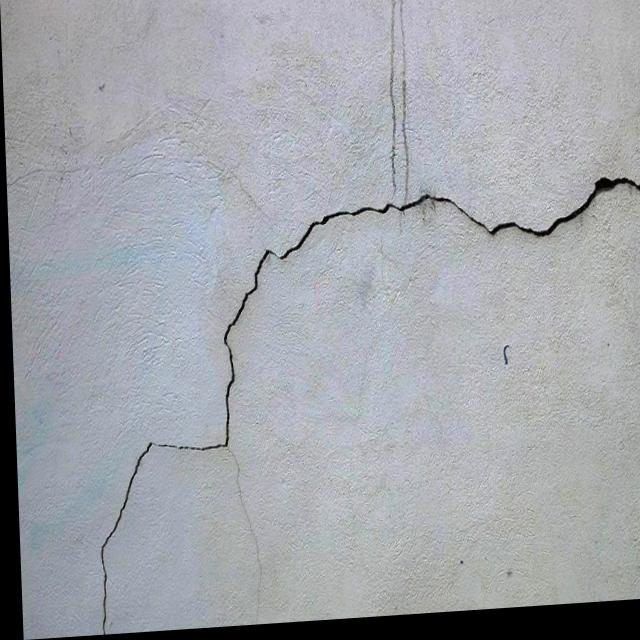Crack: (202, 212, 323, 438), (75, 425, 161, 637), (459, 164, 640, 263), (301, 181, 475, 253), (213, 429, 273, 629), (134, 423, 237, 463)
